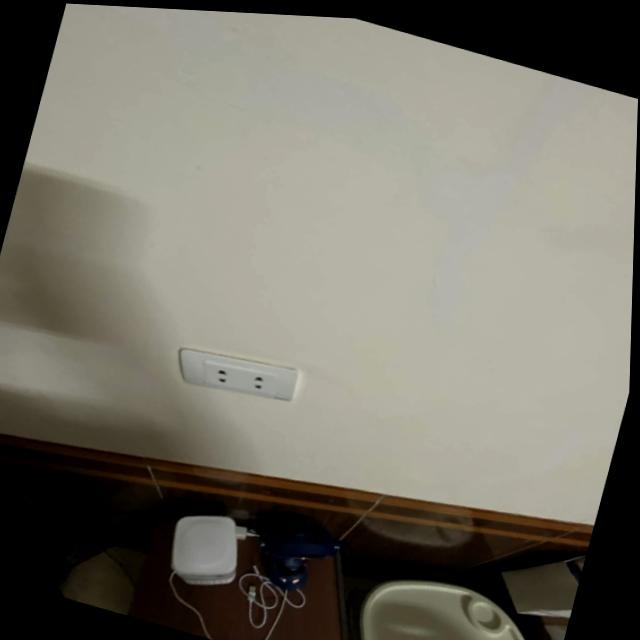outlet: (170, 335, 301, 412)
